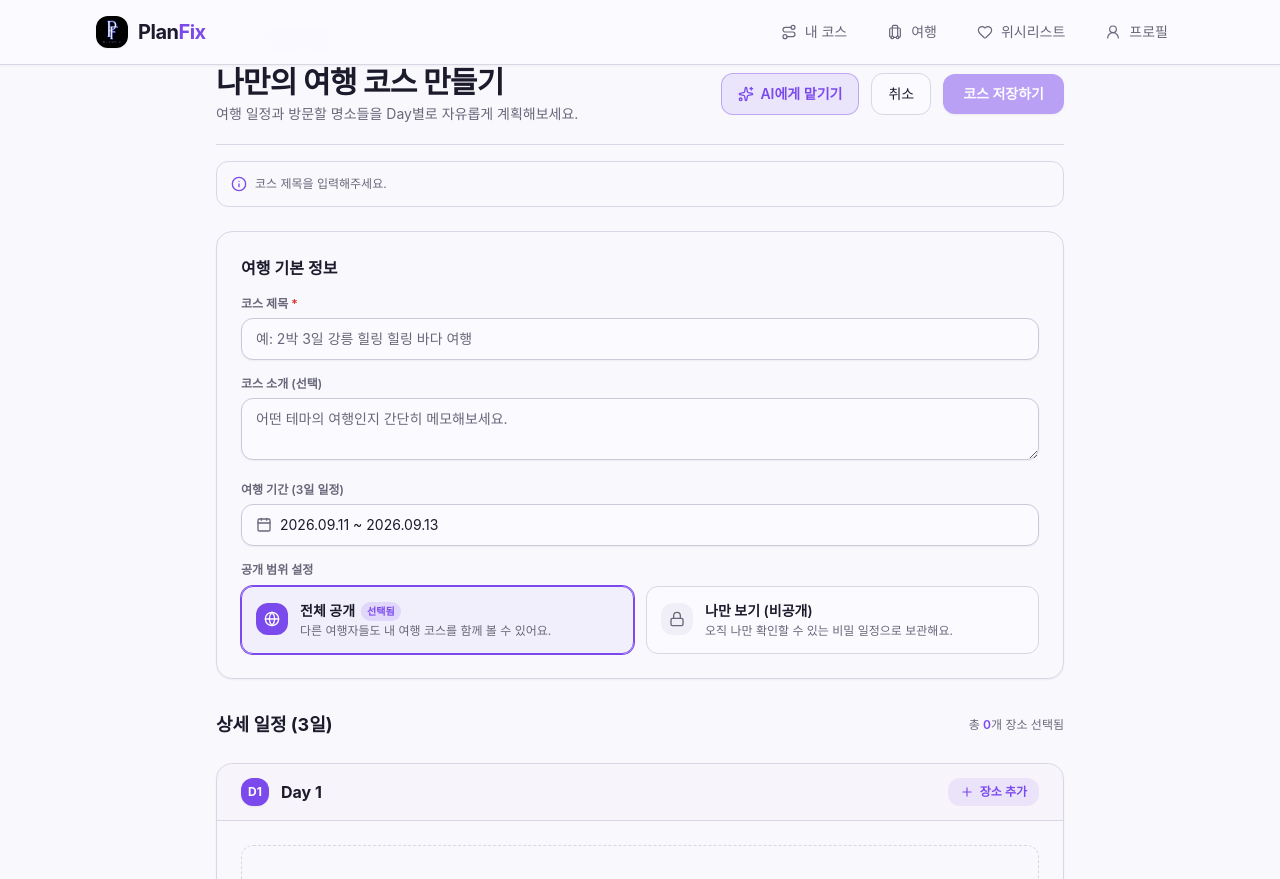
Test: CourseCreatePage › 취소 버튼을 누르면 기간 변경 없이 캘린더가 닫힌다
Click the button "2026.09.11 ~ 2026.09.13" at (315, 524), box [241,504,1039,546]
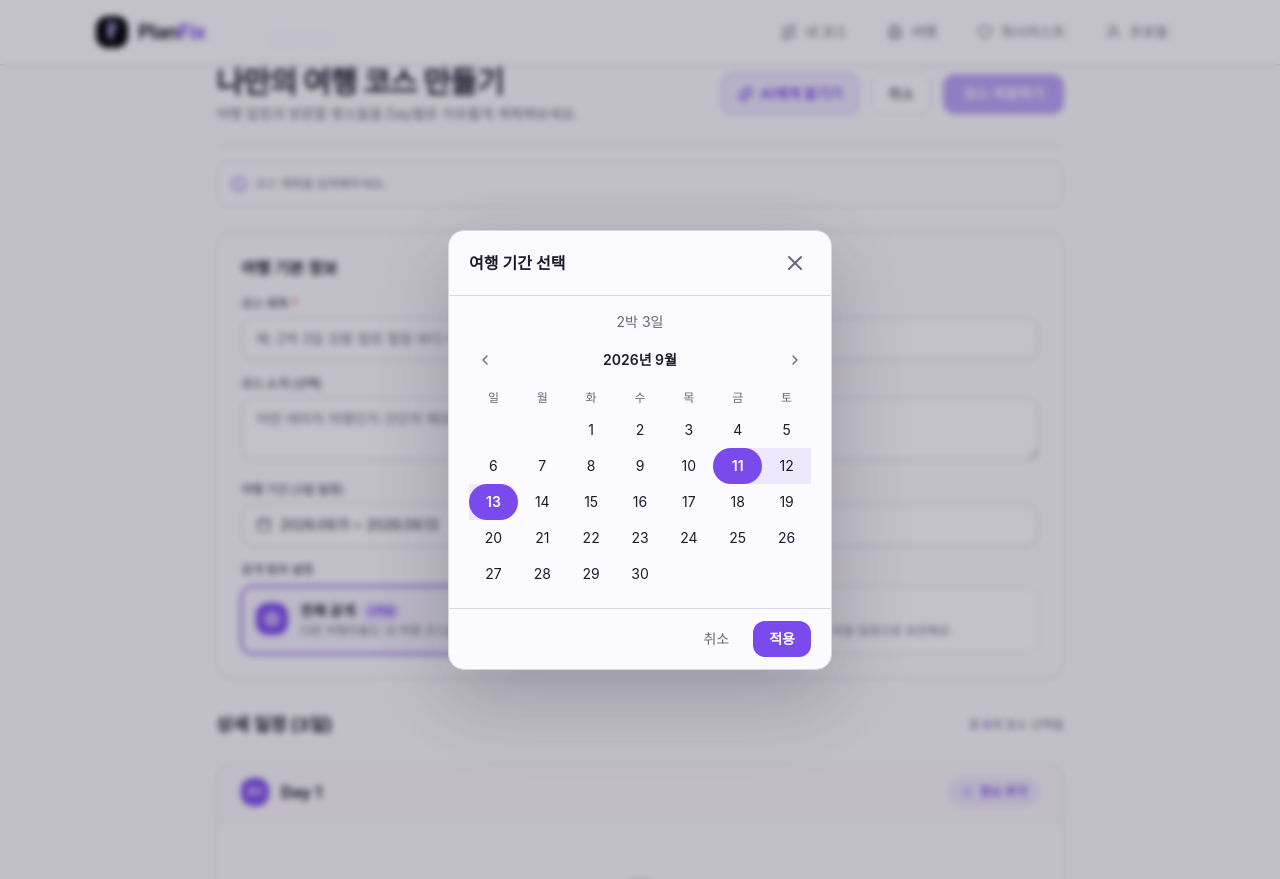
Check: the heading "여행 기간 선택" is shown, box [469,251,565,275]
Click the button "취소" at (716, 639), box [688,621,745,657]
(page scrolled)
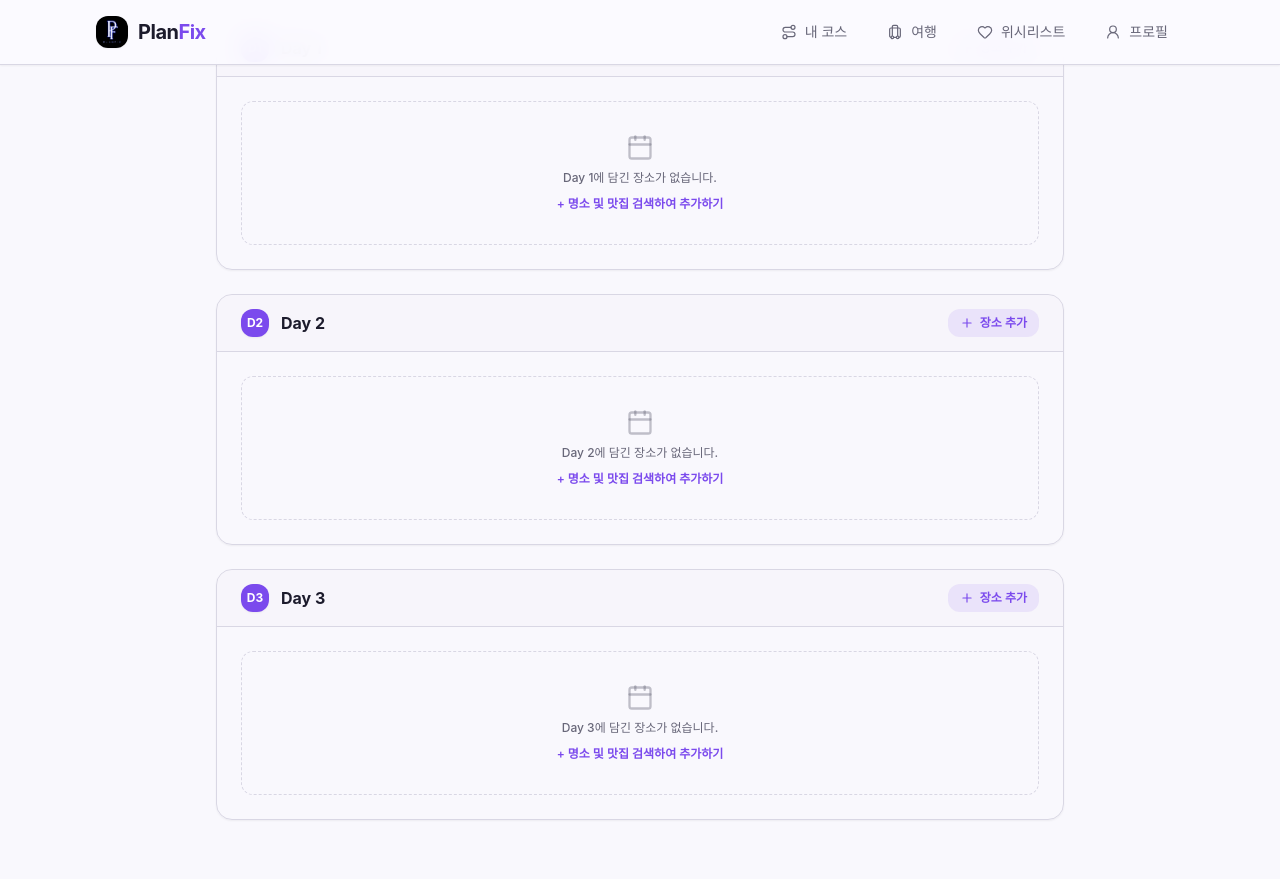
Check: the element with test id "day-card-3" is shown, box [216,569,1064,820]
Check: the heading "여행 기간 선택" is gone
